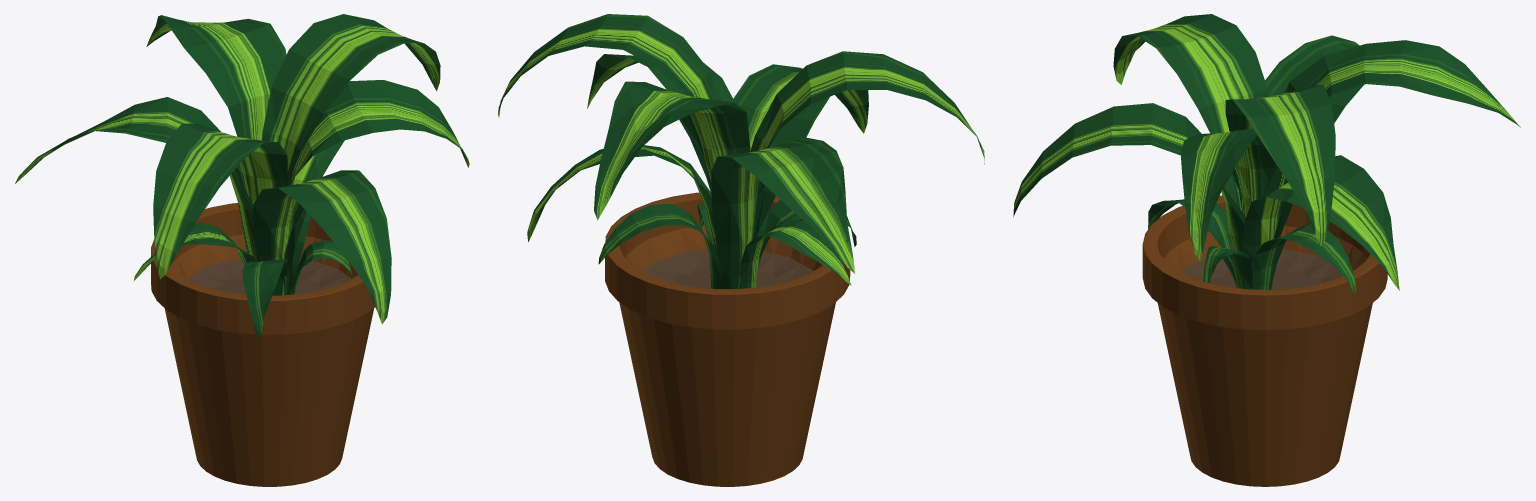
The model's file is plant1.obj.
The picture shows the model from 3 angles, left to right: view 1: azimuth 30°, elevation 25°; view 2: azimuth 150°, elevation 25°; view 3: azimuth 270°, elevation 25°; orthographic projection. The views are drawn at different scales.
Parts seen in each view (by area): view 1: leaf_Plane.010, maceta_Cylinder; view 2: leaf_Plane.010, maceta_Cylinder; view 3: leaf_Plane.010, maceta_Cylinder.
Part boxes in pixels (x1,y1,x2,y2): leaf_Plane.010: (15, 14, 469, 338); maceta_Cylinder: (151, 203, 375, 486); leaf_Plane.010: (498, 14, 984, 288); maceta_Cylinder: (605, 192, 850, 486); leaf_Plane.010: (1013, 14, 1520, 294); maceta_Cylinder: (1142, 195, 1387, 486).
Size of the model in its own units: 0.5866 by 0.5777 by 0.6523.
